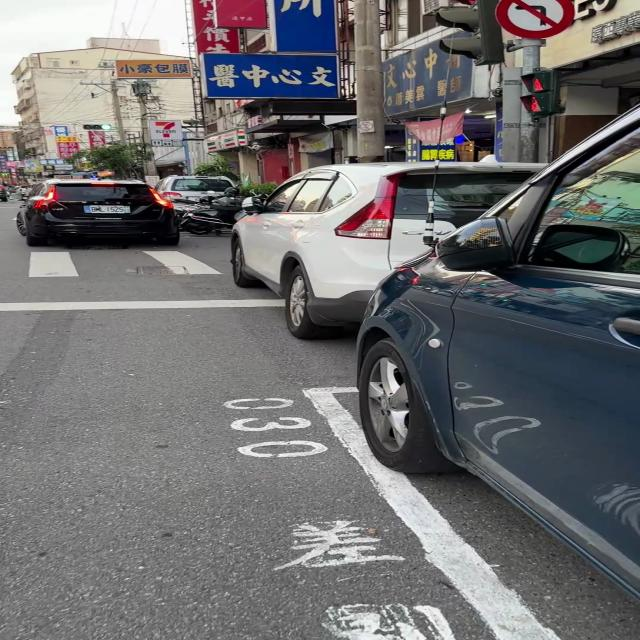car: (357, 110, 640, 592), (232, 162, 543, 339), (18, 180, 179, 246), (157, 175, 234, 200)
crosswalk: (23, 249, 228, 279)
